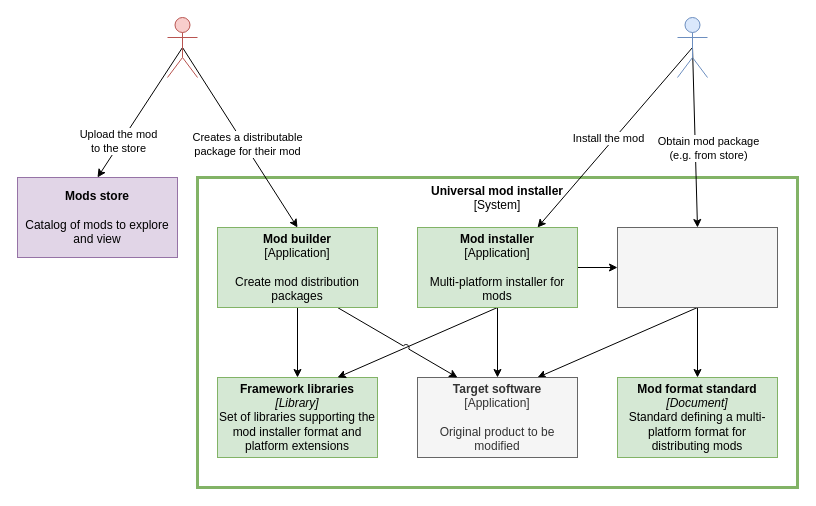
This 816x506 diagram has some shape labels left out. Each missing label, with the centre of its shape:
Mod team: the point at 182,47
Mods [File(s)] Modifications for the target software: the point at 697,267
Player: the point at 692,47
